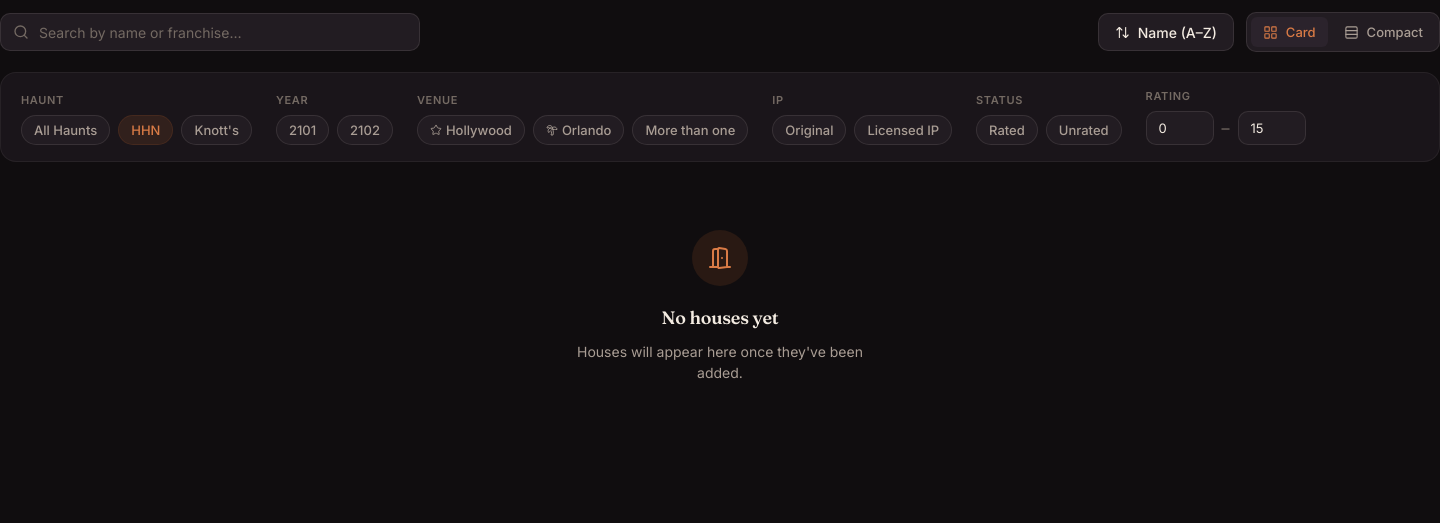
AttractionBrowser › shows the Personal Ranking sort option once a manual ranking exists
This screenshot has width=1440, height=523.
Click the button "Name (A–Z)" at (1166, 32), box [1098,13,1234,51]
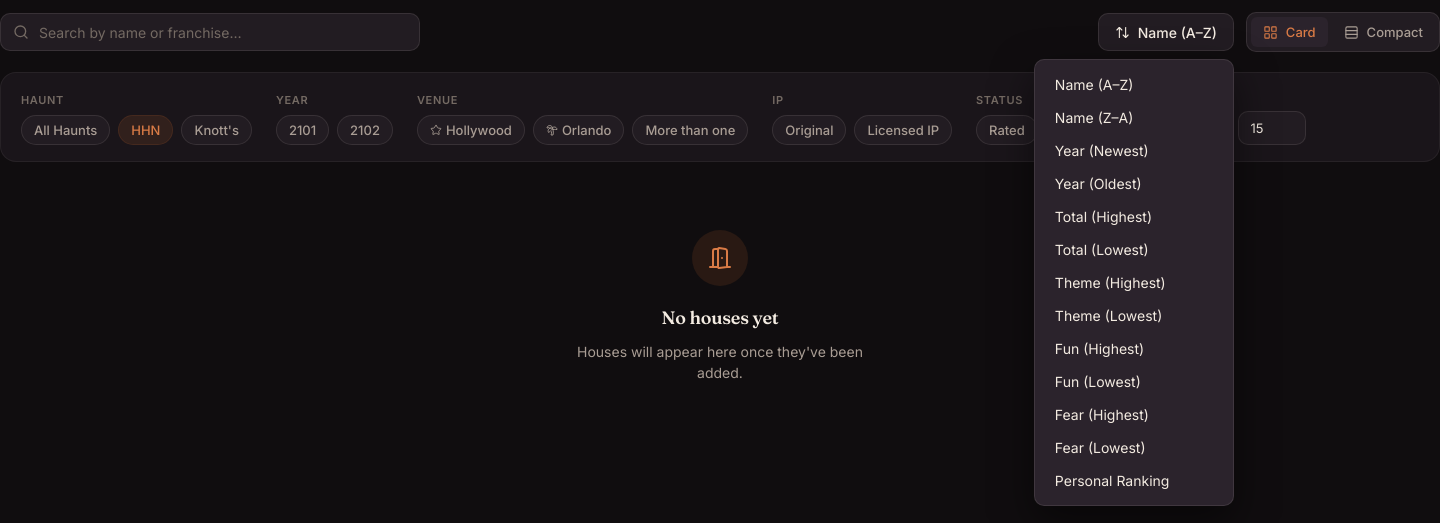
Expected: the menu item "Personal Ranking" is shown, [1043,464,1225,497]
